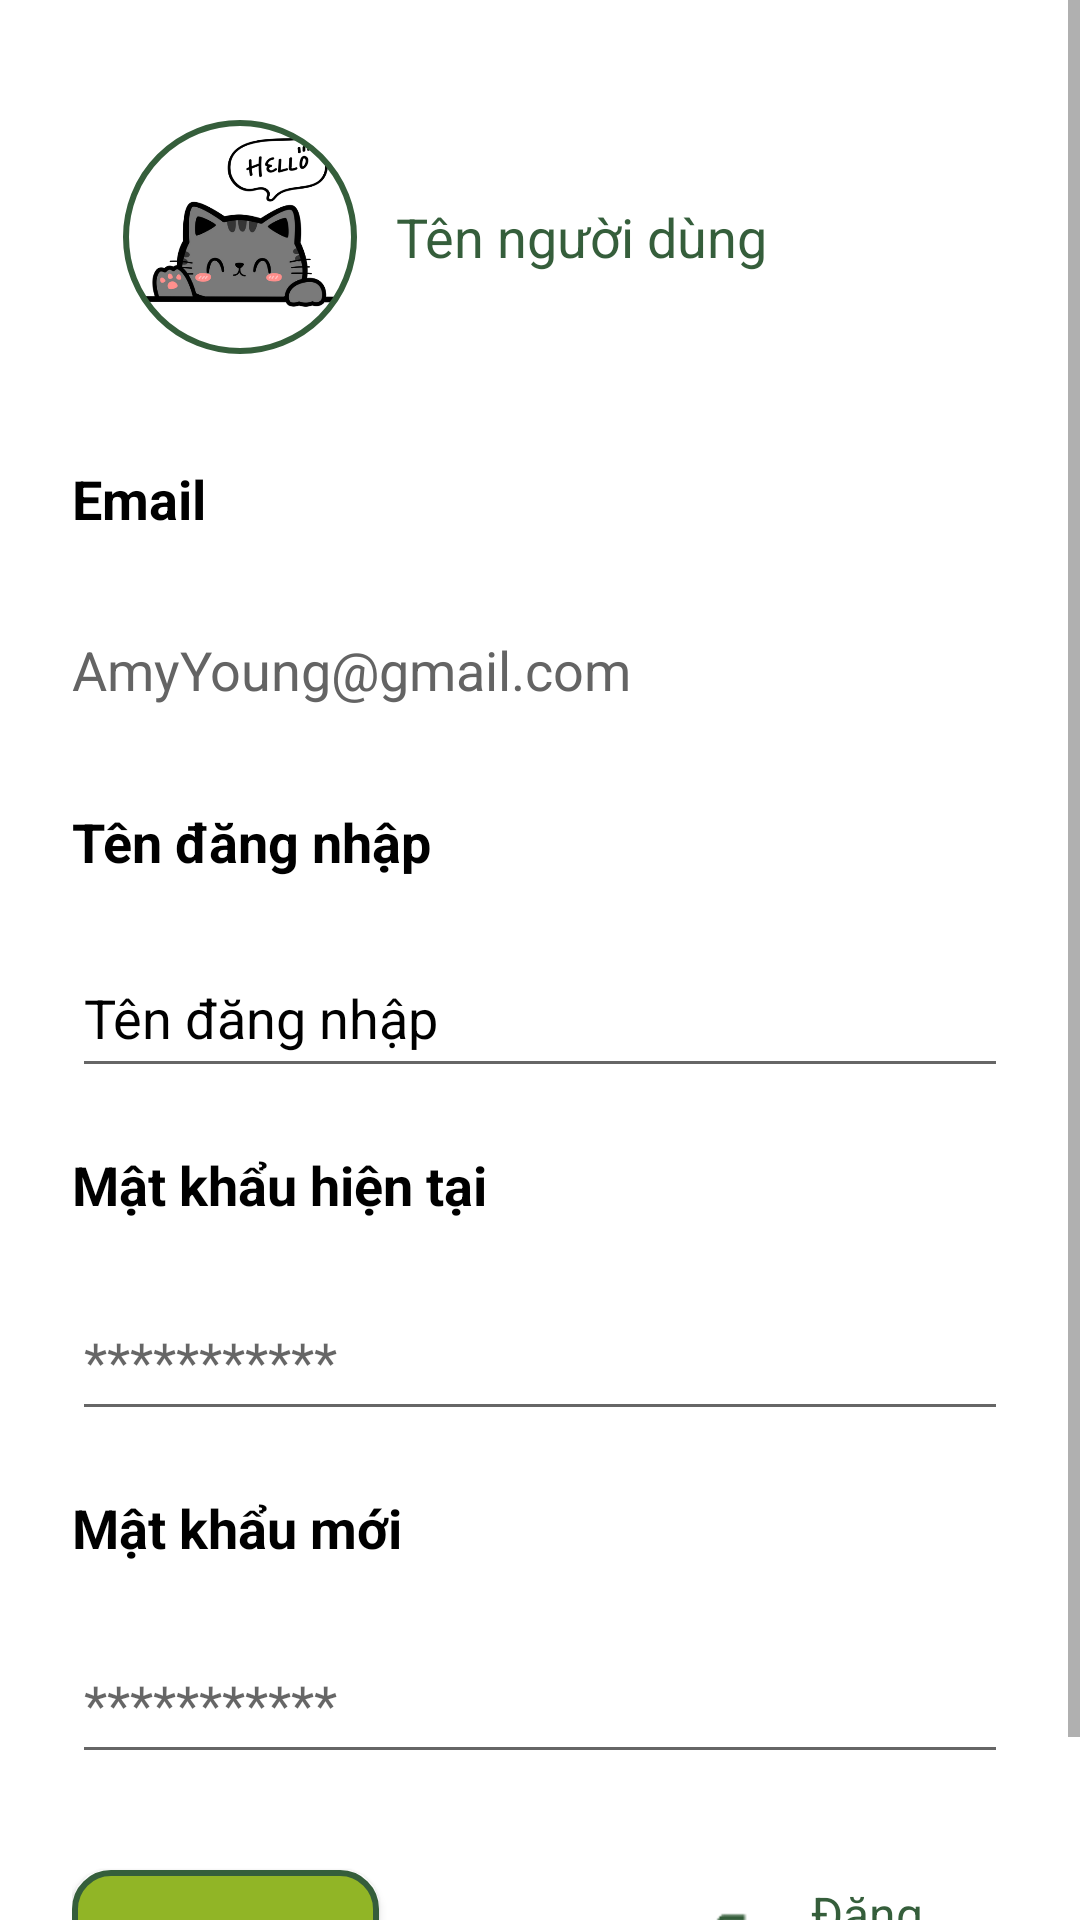

Icons on this 1080 × 1920 Android screen, each with the point to tap as point (x, y):
logincat: point (240, 237)
